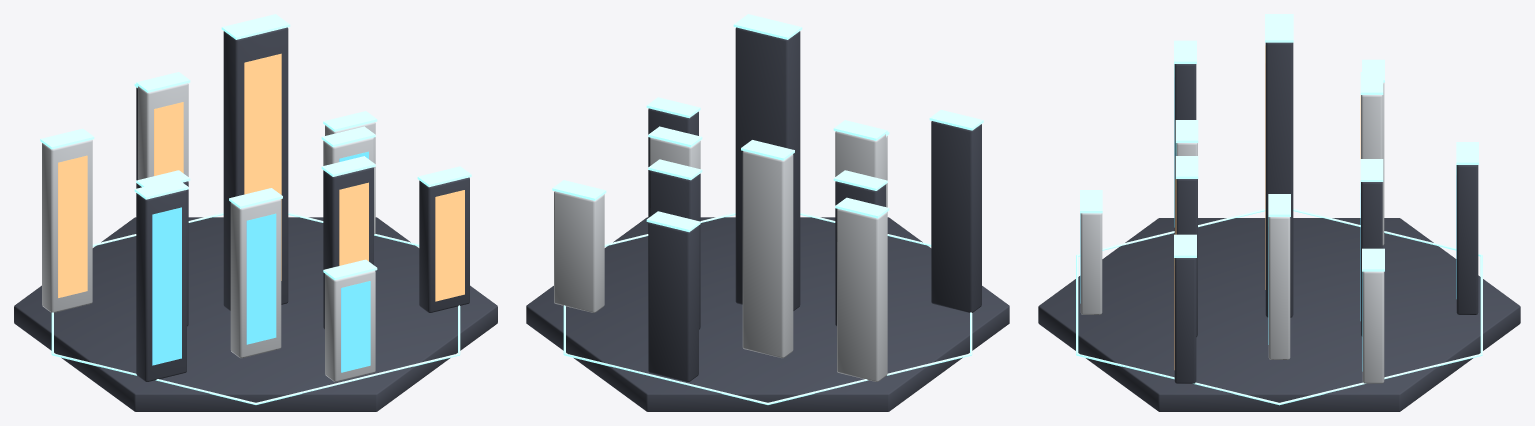
The model's file is partners.glb.
3 renders of one model, left to right at view 1: azimuth 30°, elevation 25°; view 2: azimuth 150°, elevation 25°; view 3: azimuth 270°, elevation 25°, orthographic.
Visible parts, largest first — view 1: partners_Graphite, partners_Screen2, partners_Hull, partners_Screen, partners_Cyan; view 2: partners_Graphite, partners_Hull, partners_Cyan; view 3: partners_Graphite, partners_Hull, partners_Cyan, partners_Screen, partners_Screen2.
Boxes of the visible parts, left/top/right/bottom form: partners_Graphite: left=14, top=27, right=497, bottom=411; partners_Screen2: left=58, top=53, right=464, bottom=301; partners_Hull: left=42, top=83, right=375, bottom=381; partners_Screen: left=152, top=151, right=370, bottom=372; partners_Cyan: left=40, top=14, right=471, bottom=404; partners_Graphite: left=526, top=27, right=1009, bottom=411; partners_Hull: left=554, top=131, right=887, bottom=381; partners_Cyan: left=552, top=14, right=983, bottom=404; partners_Graphite: left=1038, top=42, right=1520, bottom=411; partners_Hull: left=1080, top=82, right=1384, bottom=383; partners_Cyan: left=1076, top=14, right=1482, bottom=405; partners_Screen: left=1080, top=64, right=1456, bottom=371; partners_Screen2: left=1174, top=45, right=1360, bottom=369.
Bounding box in the file's own units: 18.5 × 12.9 × 18.97.
